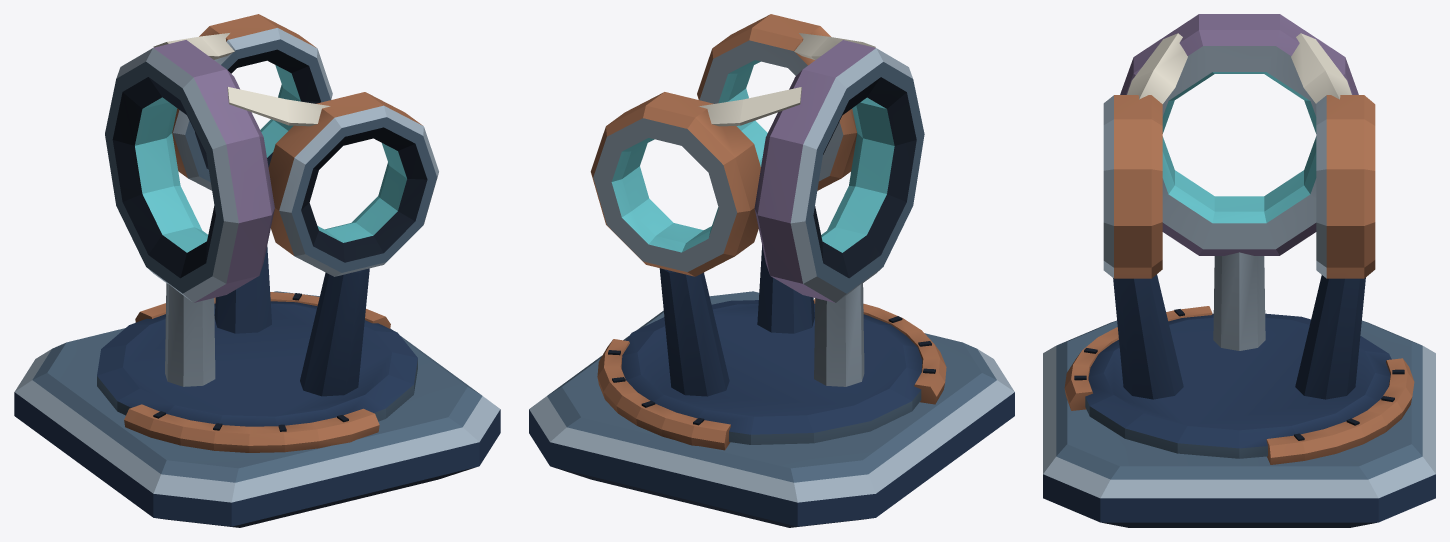
The model's file is tangler.glb.
3 renders of one model, left to right at view 1: azimuth 30°, elevation 25°; view 2: azimuth 150°, elevation 25°; view 3: azimuth 270°, elevation 25°, orthographic.
Visible parts, largest first — view 1: tangler; view 2: tangler; view 3: tangler.
Part boxes in pixels (bbox=[...]): tangler: bbox=[14, 14, 500, 527]; tangler: bbox=[529, 14, 1014, 527]; tangler: bbox=[1043, 14, 1435, 527].
Size of the model in its own units: 0.98 by 1.08 by 0.96.
